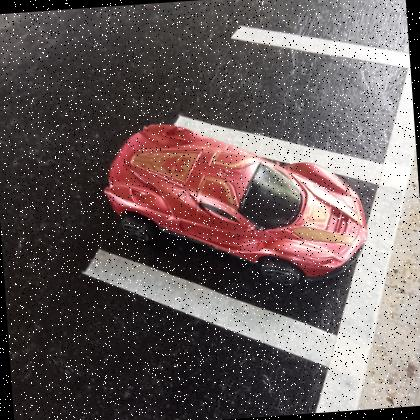Car: (104, 124, 368, 288)
